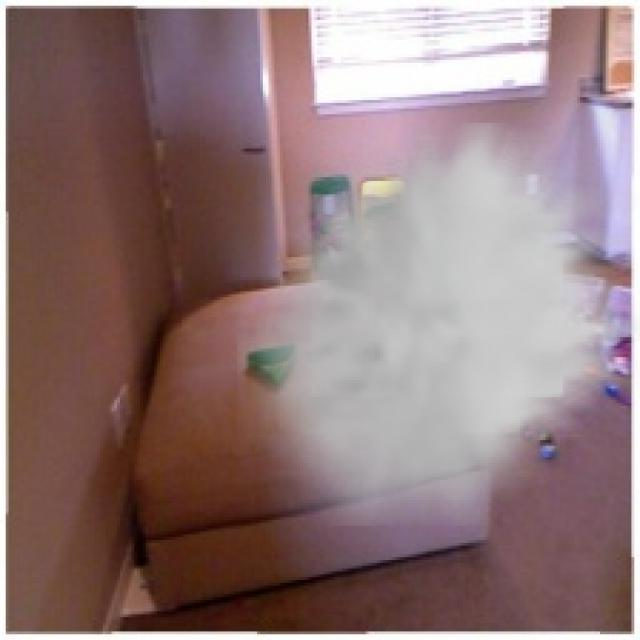Smoke: (237, 122, 637, 528)
